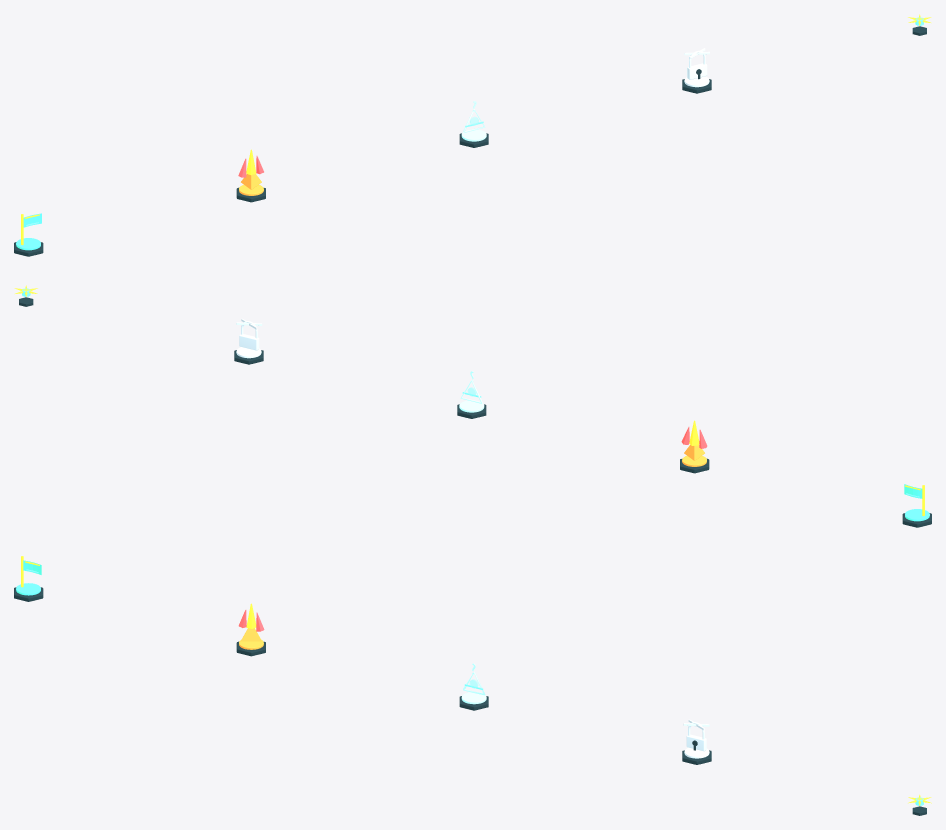
File: challenge-status-crowns.glb
3 views of the same model, one above another, from view 1: azimuth 30°, elevation 25°; view 2: azimuth 150°, elevation 25°; view 3: azimuth 330°, elevation 25° (orthographic).
Bounding box in the file's own units: 6.59 × 0.315 × 0.1819.
